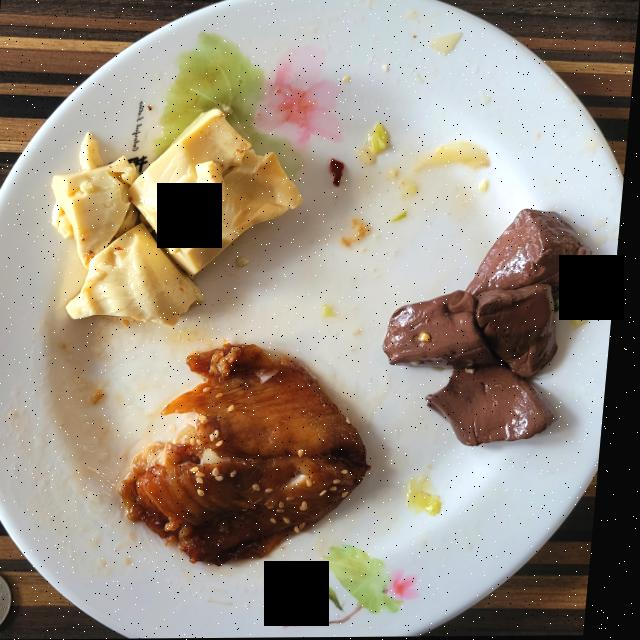Kabayaki sea bream fillet: (130, 344, 377, 565)
coin: (0, 571, 21, 633)
pig blood curd: (390, 210, 596, 446)
